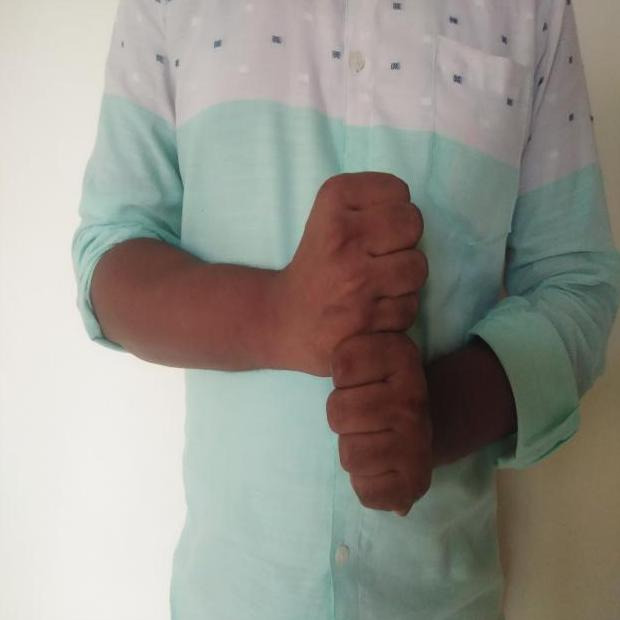F: (274, 153, 461, 526)
